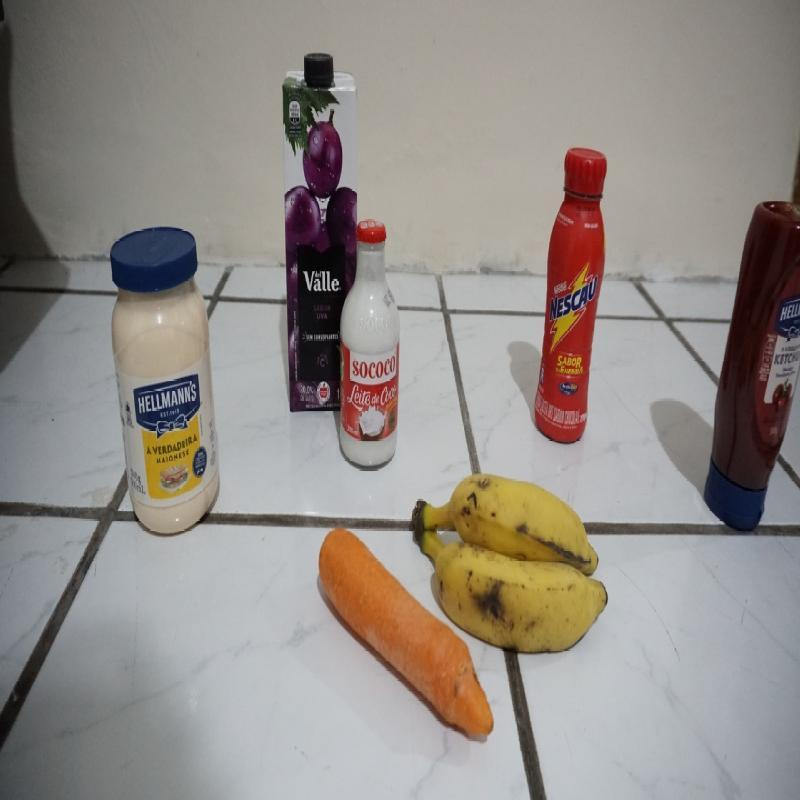Banana: (411, 471, 622, 644)
Carrot: (318, 524, 408, 692)
Chocolate Milk: (539, 142, 609, 442)
Coconut Milk: (340, 217, 398, 472)
Ketchup: (705, 192, 797, 544)
Mayonnaise: (107, 222, 228, 538)
